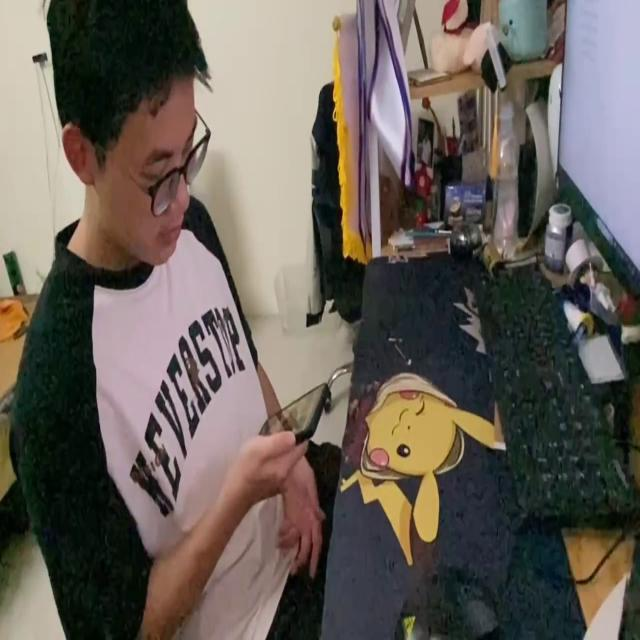laptop: (553, 6, 640, 311)
phone: (257, 381, 334, 438)
student: (8, 0, 345, 640)
